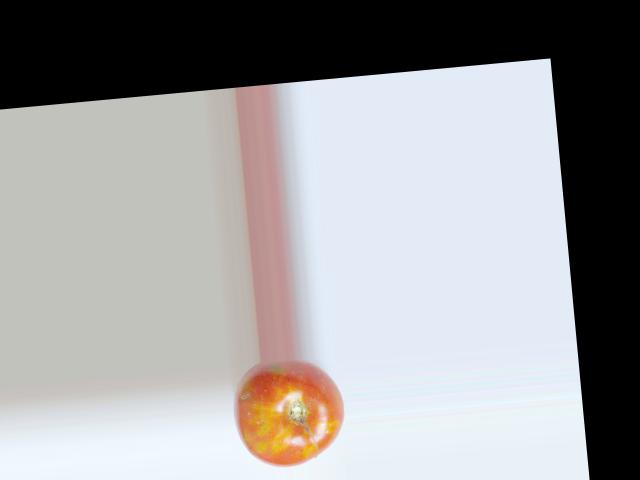tomato: (229, 355, 348, 470)
